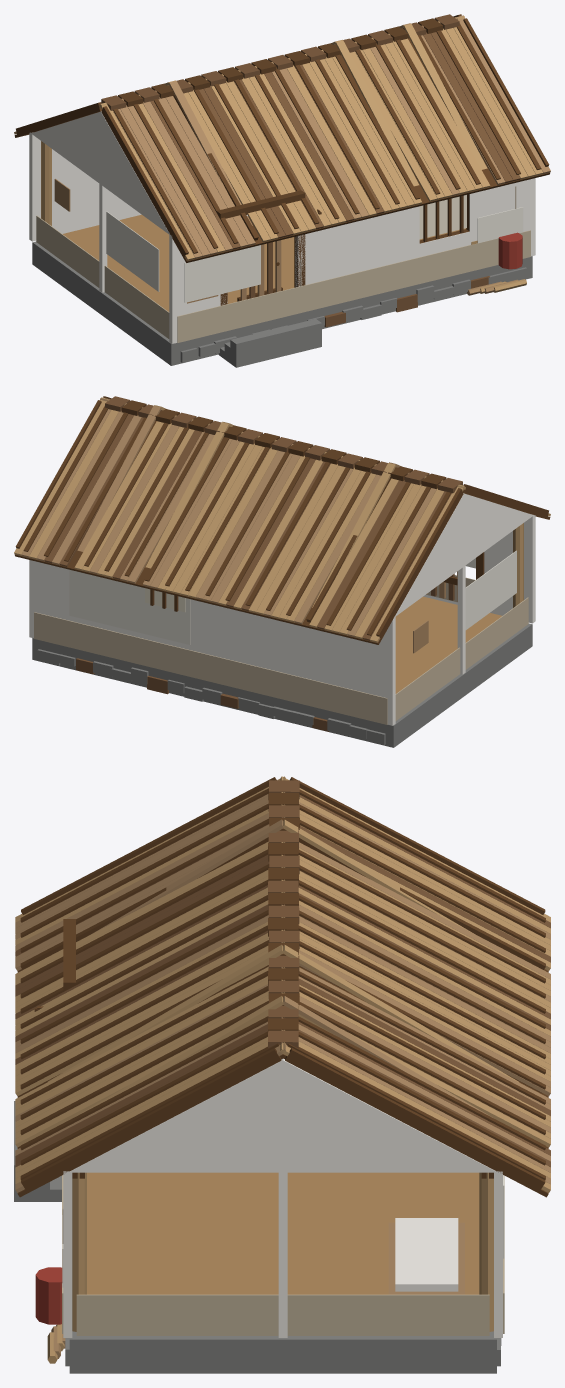
File: lib_house_c1.far.glb
The picture shows the model from 3 angles, top to bottom: view 1: azimuth 30°, elevation 25°; view 2: azimuth 150°, elevation 25°; view 3: azimuth 270°, elevation 25°; orthographic projection. The views are drawn at different scales.
Parts seen in each view (by area): view 1: hc_c1_body; view 2: hc_c1_body; view 3: hc_c1_body.
Part boxes in pixels (x1,y1,x2,y2): hc_c1_body: (14,14,550,367); hc_c1_body: (14,396,550,747); hc_c1_body: (14,776,550,1373).
Bounding box in the file's own units: 7.2 × 4.1 × 5.98.
1 material, 1 textured.
